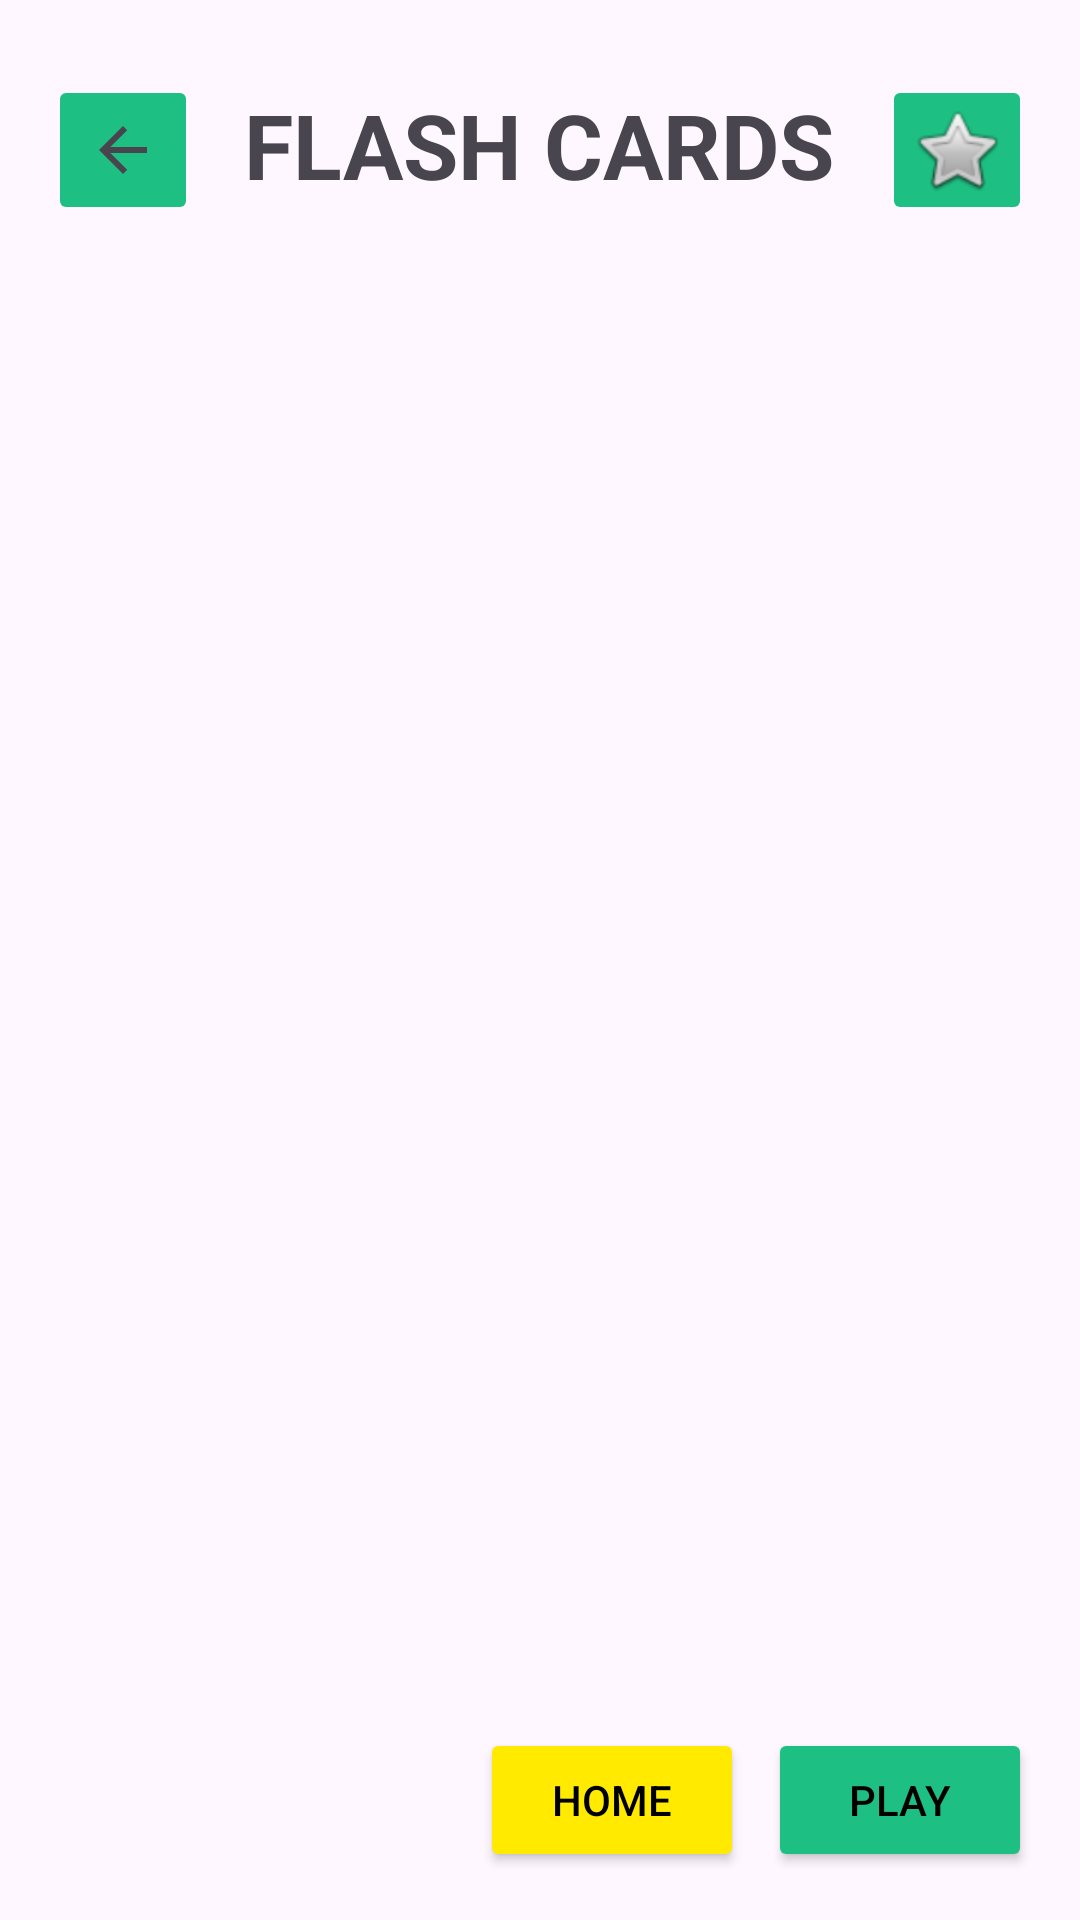

Where to tap for icons on this 1080px×1920px app screen, as [x,y]:
Add To Favorites: [957,150]
Back To Create: [123,150]
